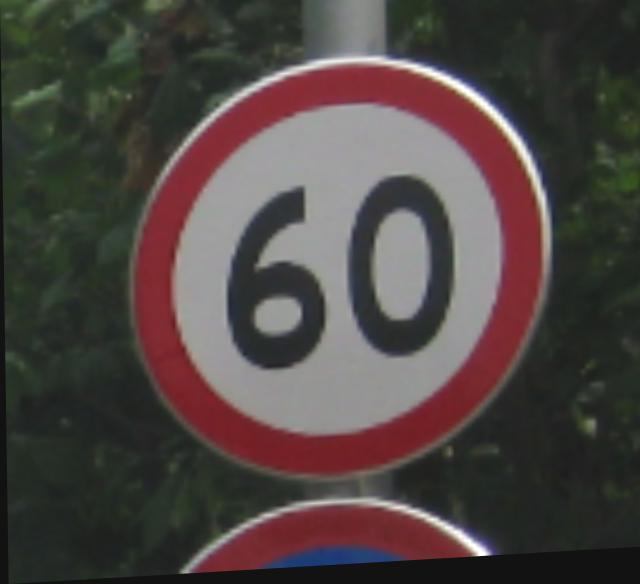limit60: (114, 43, 559, 500)
